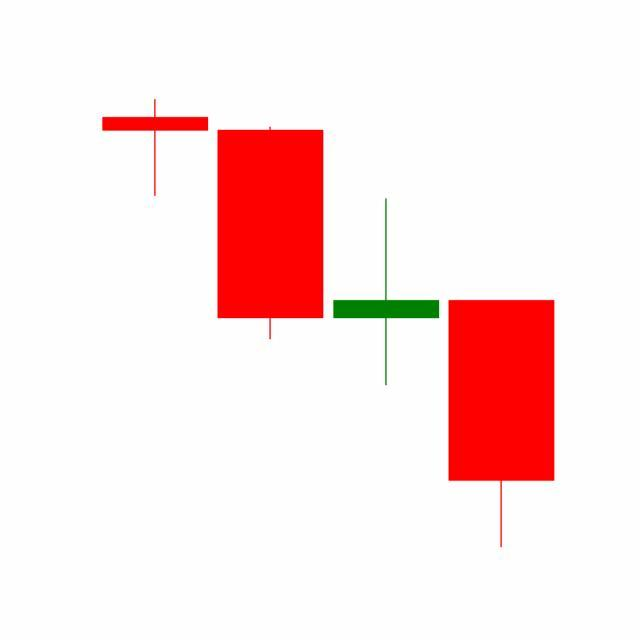Spinning Top: (329, 197, 445, 389)
